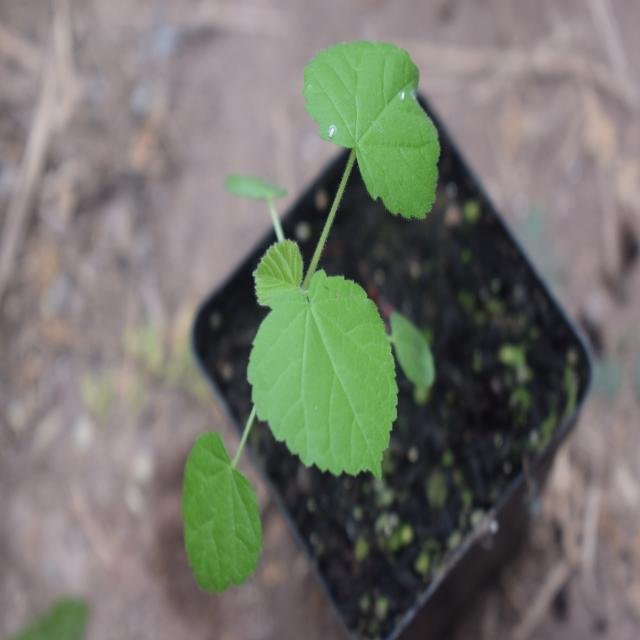abutilon theophrasti: (178, 49, 451, 630)
